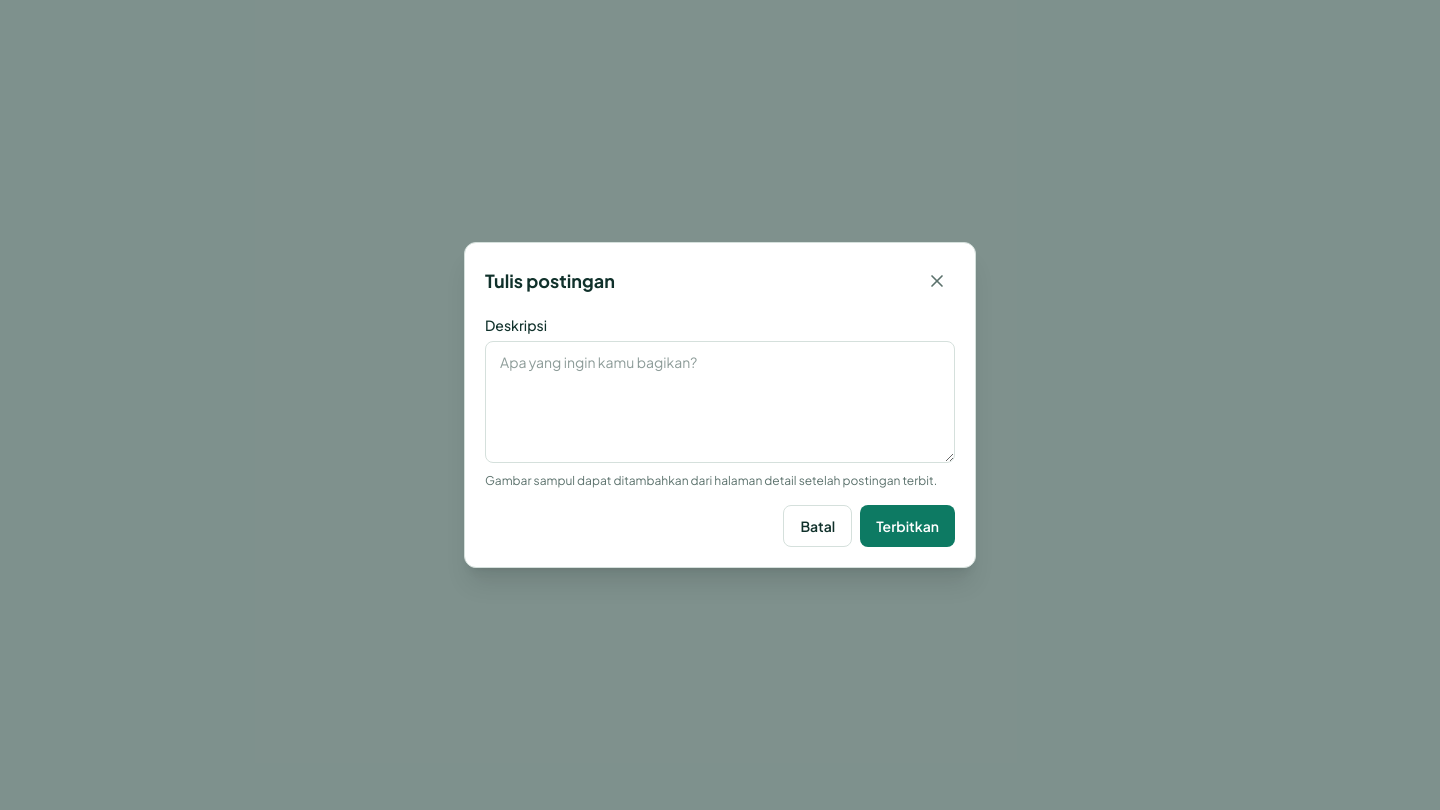
Test: AddModal › menolak deskripsi kosong
What coordinates should you click on to do the following:
click the button "Terbitkan"
I would click on:
 (908, 526)
Its box is x1=860 y1=505 x2=955 y2=547.
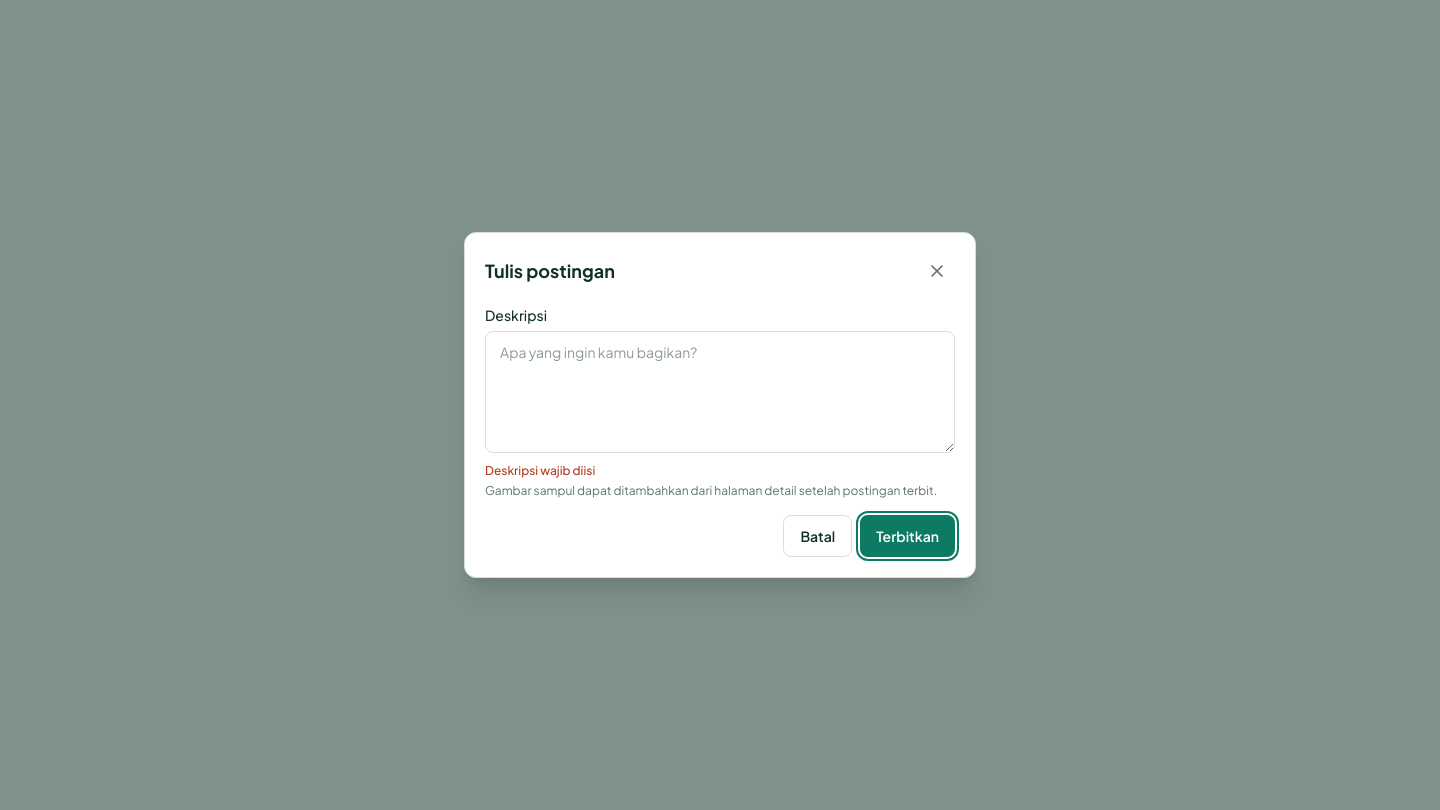
Check: the text "Deskripsi wajib diisi" is shown, box x1=485 y1=463 x2=595 y2=478
